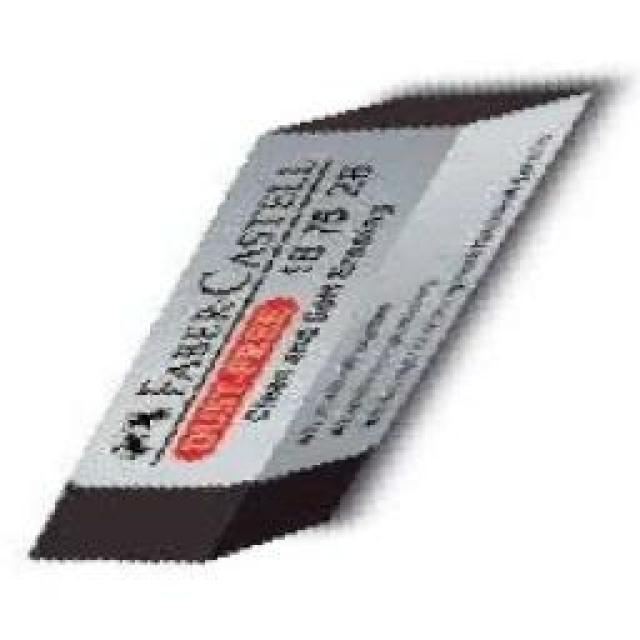Silgi: (26, 84, 599, 562)
